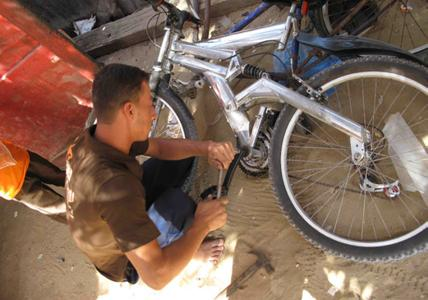person: (63, 61, 239, 292)
